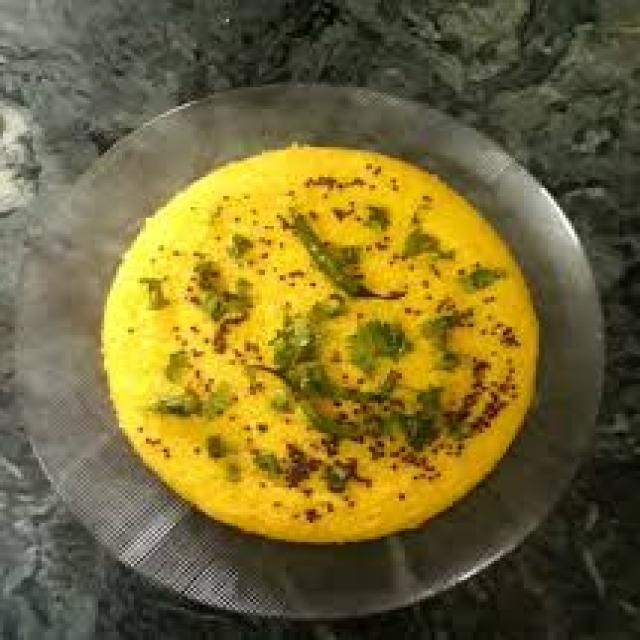DHOKLA: (106, 142, 541, 554)
